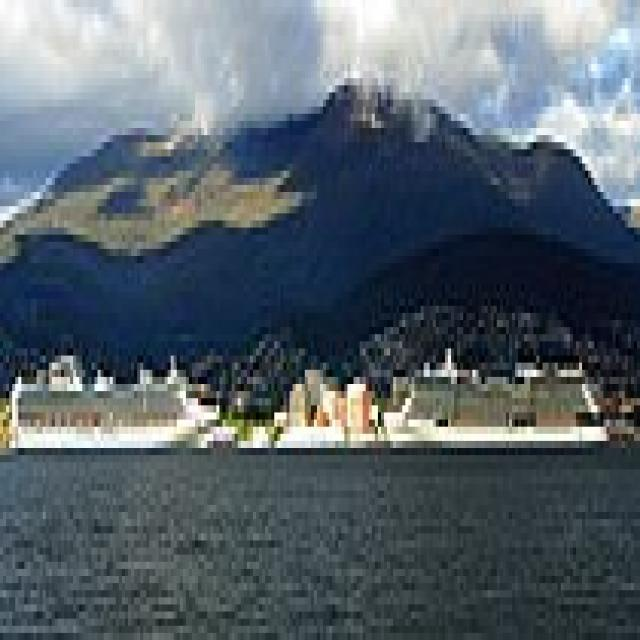Ship: (1, 336, 230, 478)
